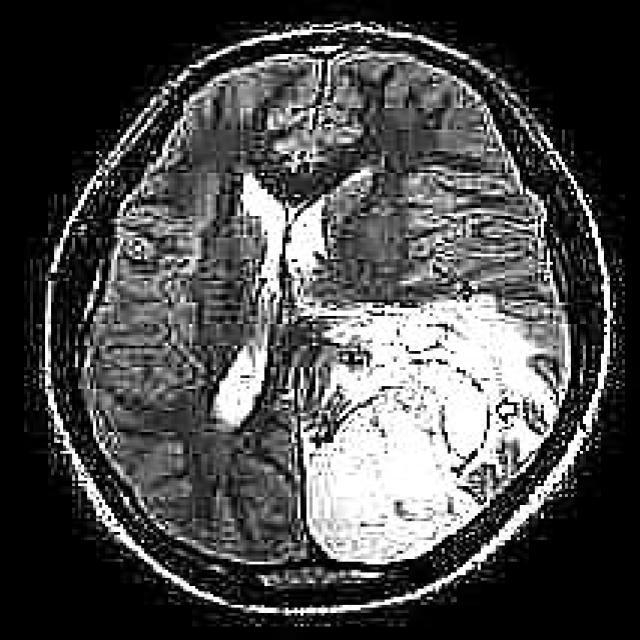brain tumor: (297, 297, 565, 562)
